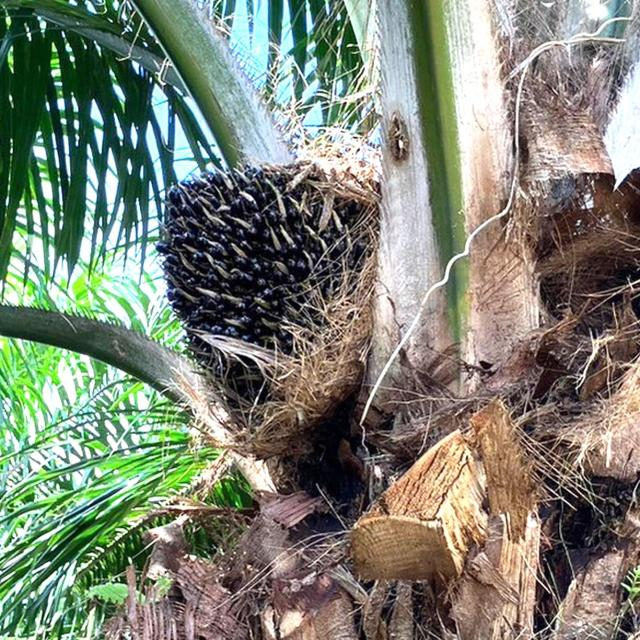unripe: (163, 168, 357, 392)
